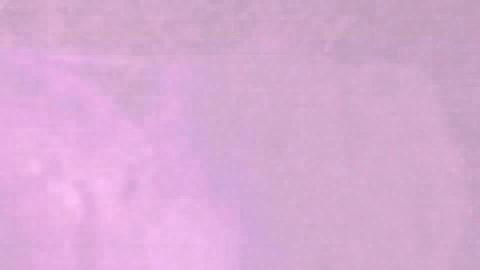tomato: (133, 87, 388, 270), (2, 131, 132, 270), (390, 135, 477, 268)
